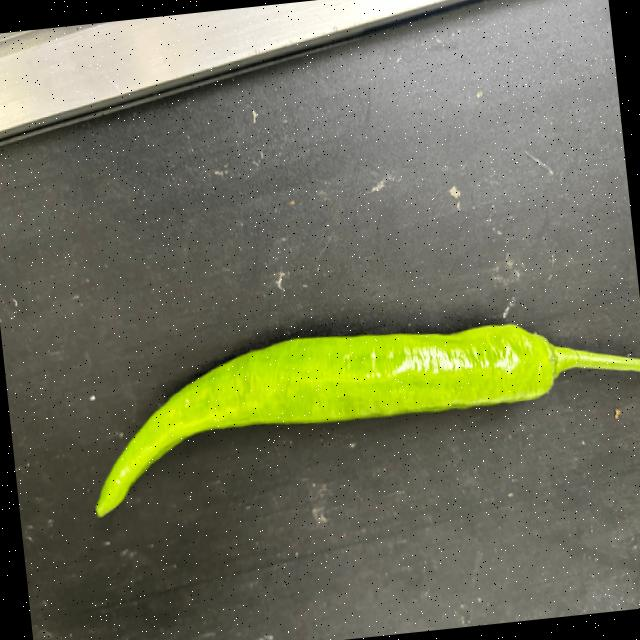chili: (93, 321, 555, 520)
